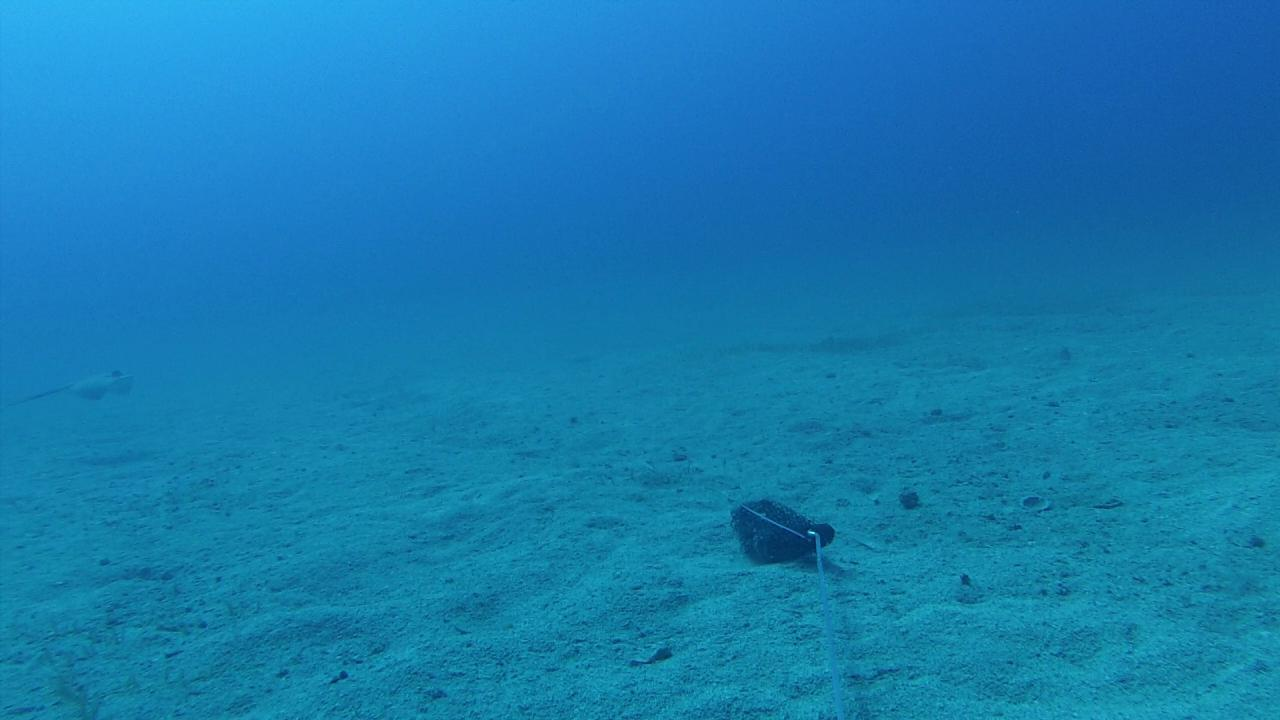dasyatis: (5, 361, 137, 411)
